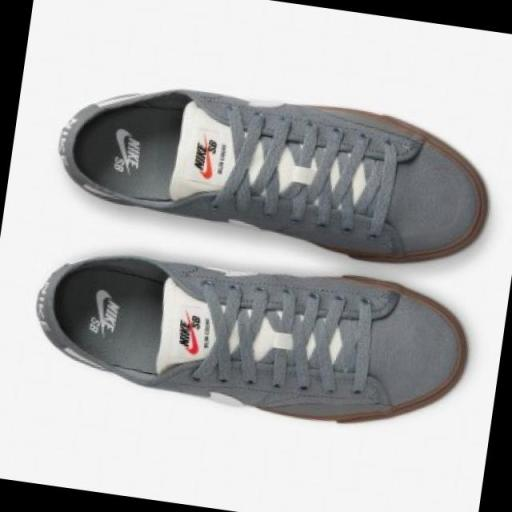Nike: (184, 320, 201, 355), (192, 144, 208, 170)
